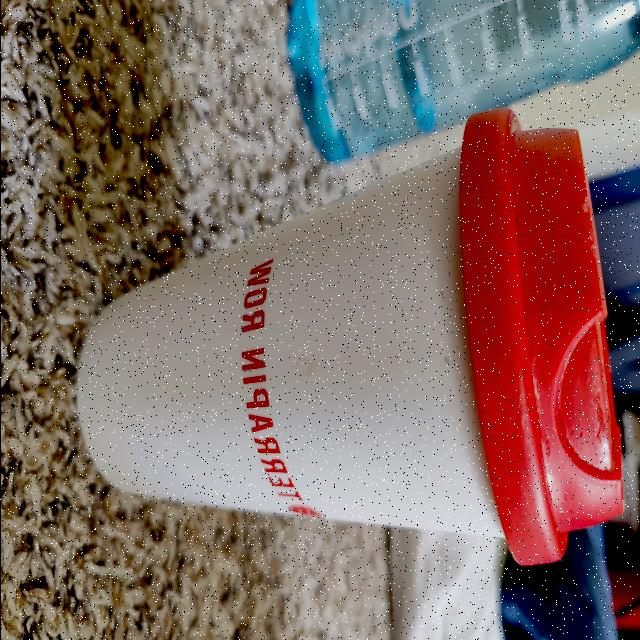mug: (84, 112, 628, 568)
